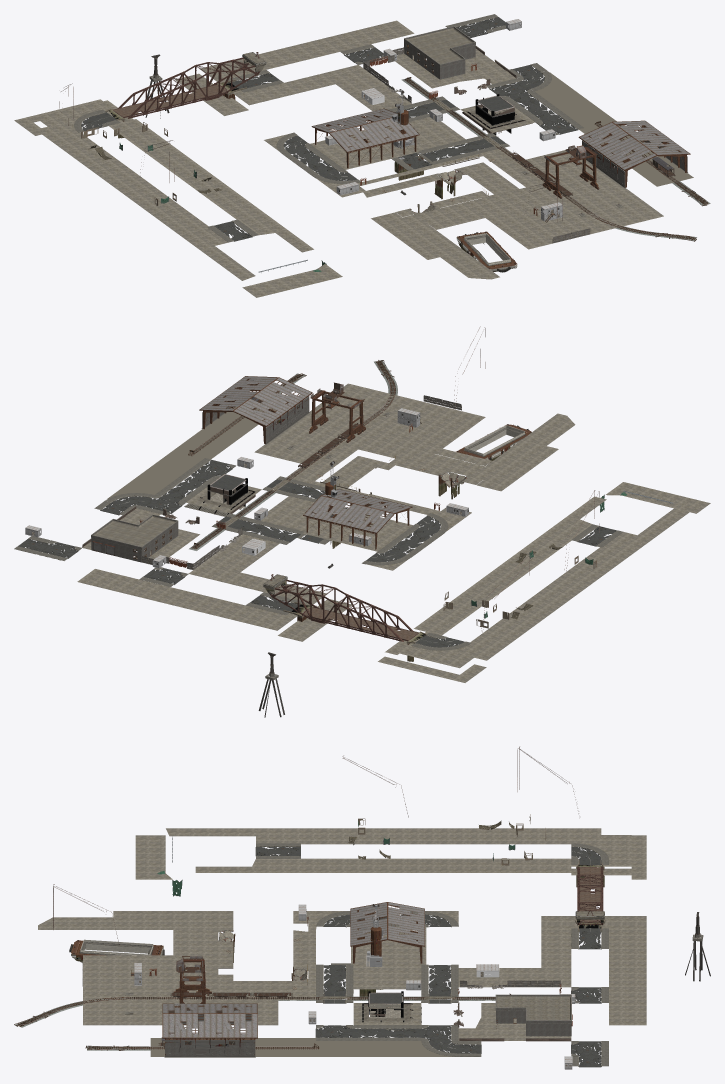
File: harbor_2-mid.glb
3 renders of one model, top to bottom at view 1: azimuth 30°, elevation 25°; view 2: azimuth 150°, elevation 25°; view 3: azimuth 270°, elevation 25°, orthographic. The views are drawn at different scales.
Parts seen in each view (by area): view 1: temperate, road_9x15_LOD0, swing_bridge_LOD0, warehouse_large_core_LOD0, train_crane_a_LOD0, office_bld_a_ext_LOD0, road_9x15_railway_LOD0, portacabin_building_300_600_b_LOD0, swing_bridge_ramp_C_LOD0, corridor_train_tunnel_entrance_a_LOD0, wall_conc_300x300, barge_base_3600_LOD0 (+1 smaller); view 2: temperate, road_9x15_LOD0, swing_bridge_LOD0, warehouse_large_core_LOD0, office_bld_a_ext_LOD0, train_crane_a_LOD0, road_9x15_railway_LOD0, portacabin_building_300_600_b_LOD0, corridor_train_tunnel_entrance_a_LOD0, swing_bridge_ramp_C_LOD0, barge_base_3600_LOD0, wall_conc_300x300; view 3: temperate, road_9x15_LOD0, warehouse_large_core_LOD0, swing_bridge_LOD0, office_bld_a_ext_LOD0, train_crane_a_LOD0, road_9x15_railway_LOD0, corridor_train_tunnel_entrance_a_LOD0, portacabin_building_300_600_b_LOD0, barge_base_3600_LOD0, wall_conc_300x300, swing_bridge_ramp_C_LOD0 (+1 smaller).
Boxes of the visible parts, x1=… form: temperate: x1=14, y1=20, x2=693, y2=297; road_9x15_LOD0: x1=74, y1=14, x2=623, y2=242; swing_bridge_LOD0: x1=109, y1=26, x2=688, y2=213; warehouse_large_core_LOD0: x1=312, y1=109, x2=689, y2=169; train_crane_a_LOD0: x1=312, y1=108, x2=690, y2=269; office_bld_a_ext_LOD0: x1=149, y1=27, x2=687, y2=271; road_9x15_railway_LOD0: x1=401, y1=77, x2=710, y2=241; portacabin_building_300_600_b_LOD0: x1=325, y1=19, x2=562, y2=221; swing_bridge_ramp_C_LOD0: x1=105, y1=79, x2=502, y2=212; corridor_train_tunnel_entrance_a_LOD0: x1=462, y1=94, x2=525, y2=137; wall_conc_300x300: x1=363, y1=47, x2=590, y2=243; barge_base_3600_LOD0: x1=456, y1=233, x2=517, y2=271; temperate: x1=77, y1=383, x2=710, y2=682; road_9x15_LOD0: x1=14, y1=403, x2=623, y2=650; swing_bridge_LOD0: x1=91, y1=376, x2=467, y2=641; warehouse_large_core_LOD0: x1=200, y1=376, x2=411, y2=532; office_bld_a_ext_LOD0: x1=91, y1=377, x2=530, y2=680; train_crane_a_LOD0: x1=199, y1=376, x2=531, y2=549; road_9x15_railway_LOD0: x1=188, y1=360, x2=397, y2=550; portacabin_building_300_600_b_LOD0: x1=25, y1=408, x2=468, y2=568; corridor_train_tunnel_entrance_a_LOD0: x1=198, y1=474, x2=255, y2=514; swing_bridge_ramp_C_LOD0: x1=224, y1=467, x2=463, y2=661; barge_base_3600_LOD0: x1=460, y1=425, x2=525, y2=464; wall_conc_300x300: x1=142, y1=395, x2=461, y2=569; temperate: x1=38, y1=828, x2=646, y2=1056; road_9x15_LOD0: x1=125, y1=843, x2=608, y2=1067; warehouse_large_core_LOD0: x1=162, y1=902, x2=424, y2=1037; swing_bridge_LOD0: x1=162, y1=865, x2=604, y2=1044; office_bld_a_ext_LOD0: x1=73, y1=902, x2=703, y2=1057; train_crane_a_LOD0: x1=71, y1=902, x2=424, y2=1047; road_9x15_railway_LOD0: x1=14, y1=993, x2=510, y2=1050; corridor_train_tunnel_entrance_a_LOD0: x1=362, y1=991, x2=421, y2=1028; portacabin_building_300_600_b_LOD0: x1=134, y1=904, x2=575, y2=1069; barge_base_3600_LOD0: x1=71, y1=939, x2=163, y2=962; wall_conc_300x300: x1=82, y1=961, x2=560, y2=994; swing_bridge_ramp_C_LOD0: x1=232, y1=863, x2=605, y2=999.
Size of the model in its own units: 231 by 62.21 by 278.
Materials: 69 (69 with a texture image).
